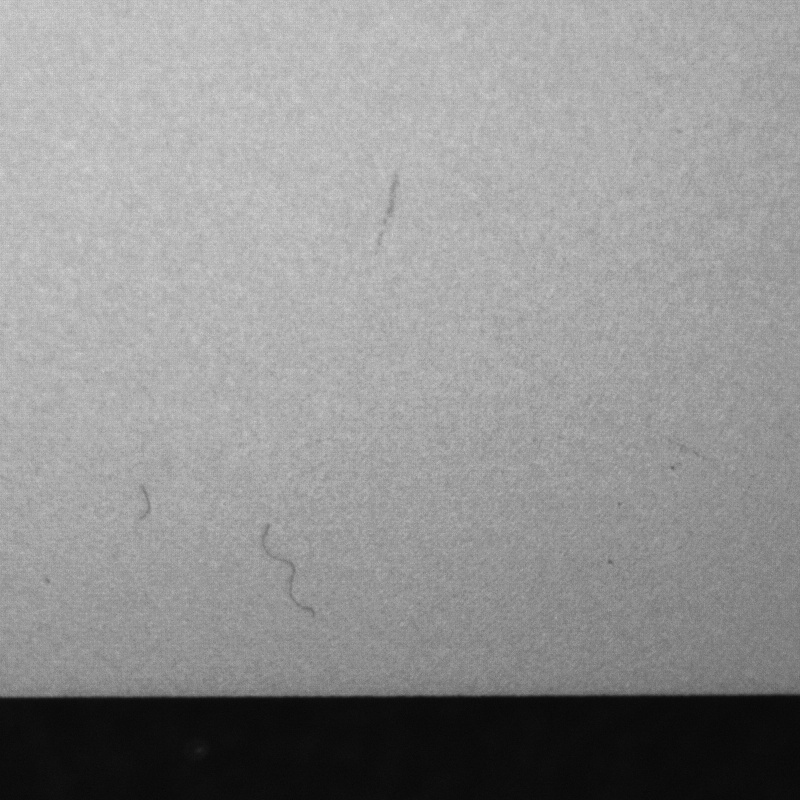defect: (254, 521, 325, 627), (373, 175, 397, 257), (663, 435, 720, 465), (135, 478, 157, 531)
